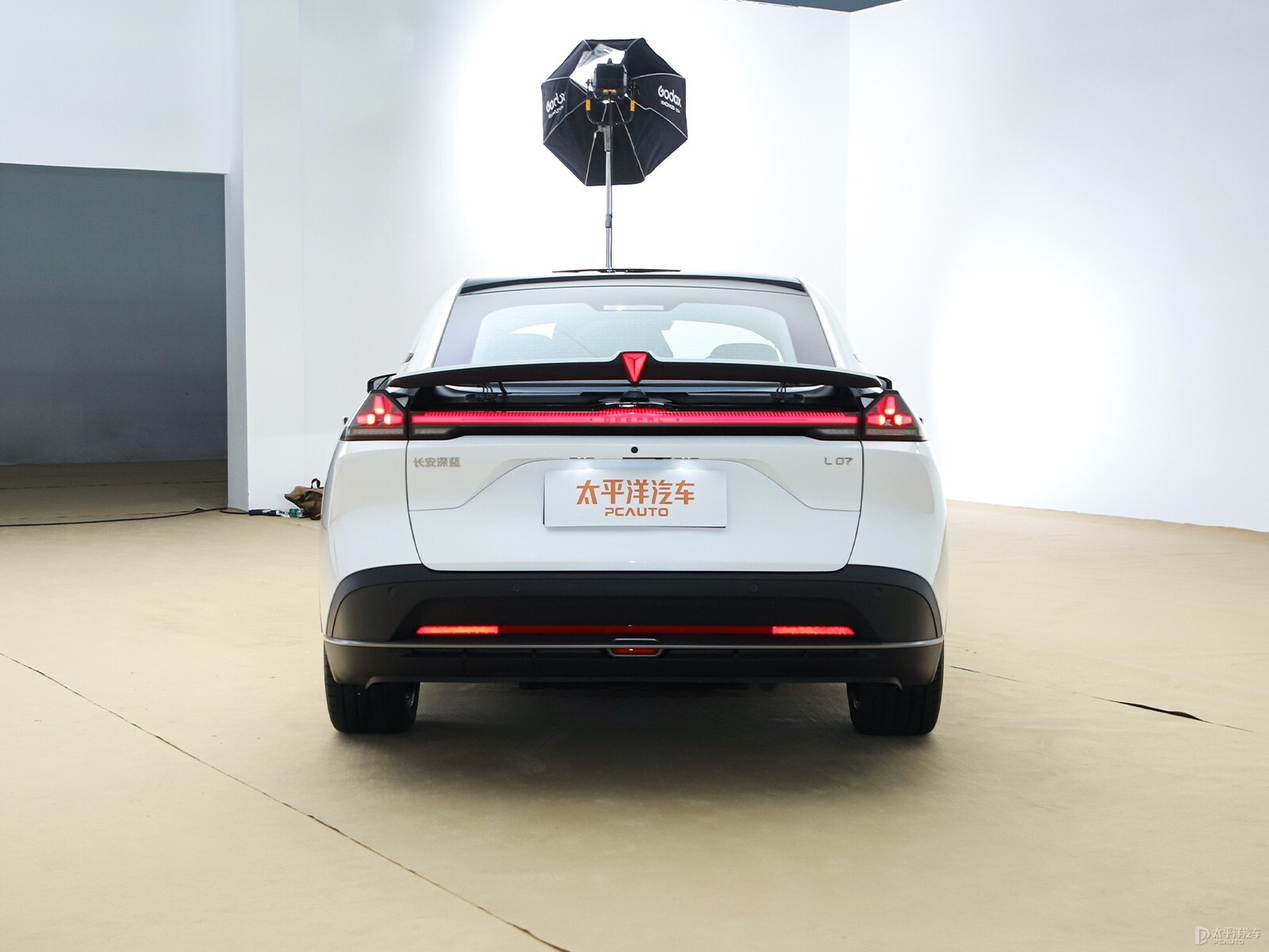Deepal: (623, 353, 646, 382)
